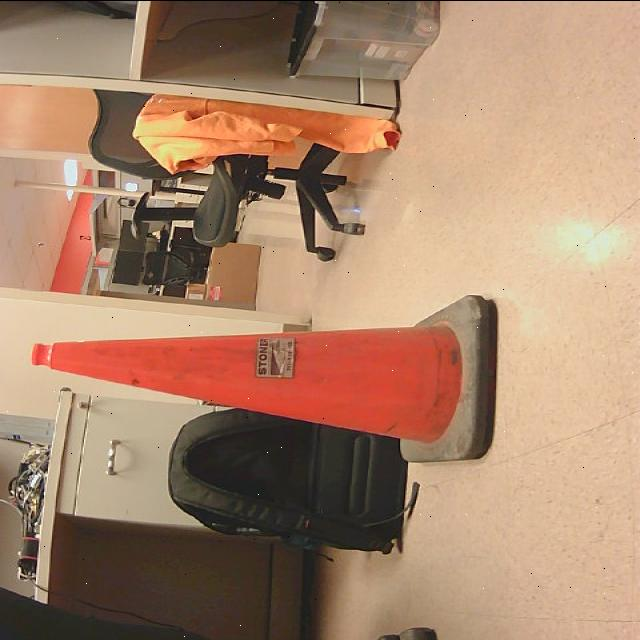traffic cone: (32, 294, 501, 463)
